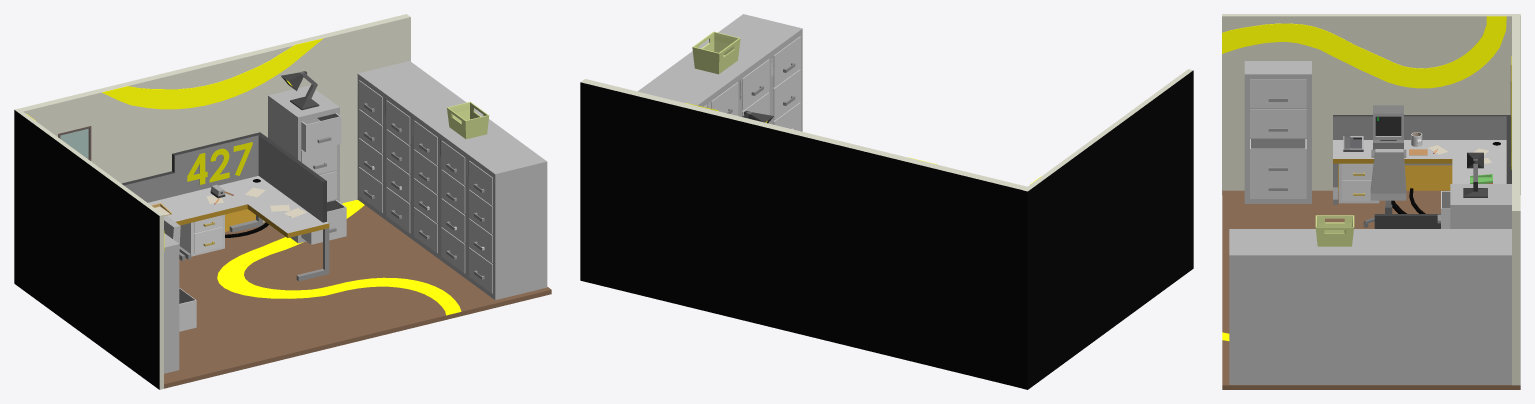
The model's file is stanley_office.glb.
The picture shows the model from 3 angles, left to right: view 1: azimuth 30°, elevation 25°; view 2: azimuth 150°, elevation 25°; view 3: azimuth 270°, elevation 25°; orthographic projection. The views are drawn at different scales.
Visible parts, largest first — view 1: Floor_0, Wall_Back_2, Wall_Side_4, Desk_54, Filing_Cabinet_007_32, Filing_Cabinet_002_28, Filing_Cabinet_007_38, Filing_Cabinet_007_40, Filing_Cabinet_007_34, Filing_Cabinet_007_36, Av_Line004_94, Filing_Cabinet_001_30 (+8 smaller); view 2: Wall_Side_4, Wall_Back_2, Filing_Cabinet_007_32, Filing_Cabinet_007_36, Filing_Cabinet_007_34, Basket_62, Filing_Cabinet_007_40; view 3: Wall_Back_2, Filing_Cabinet_001_30, Filing_Cabinet_007_32, Filing_Cabinet_007_38, Filing_Cabinet_007_40, Filing_Cabinet_007_36, Filing_Cabinet_007_34, Desk_54, Floor_0, Av_Line006_96, Wall_Side_4, Av_Line005_92 (+8 smaller).
Part boxes in pixels (x1=…): Floor_0: x1=164, y1=199, x2=551, y2=388; Wall_Back_2: x1=14, y1=109, x2=163, y2=389; Wall_Side_4: x1=17, y1=14, x2=410, y2=222; Desk_54: x1=121, y1=132, x2=329, y2=281; Filing_Cabinet_007_32: x1=467, y1=141, x2=547, y2=300; Filing_Cabinet_002_28: x1=268, y1=85, x2=346, y2=244; Filing_Cabinet_007_38: x1=357, y1=61, x2=436, y2=219; Filing_Cabinet_007_40: x1=385, y1=81, x2=463, y2=239; Filing_Cabinet_007_34: x1=440, y1=121, x2=519, y2=279; Filing_Cabinet_007_36: x1=412, y1=101, x2=491, y2=259; Av_Line004_94: x1=102, y1=38, x2=323, y2=109; Filing_Cabinet_001_30: x1=164, y1=233, x2=196, y2=373; Wall_Side_4: x1=580, y1=79, x2=1028, y2=388; Wall_Back_2: x1=1022, y1=69, x2=1193, y2=389; Filing_Cabinet_007_32: x1=718, y1=14, x2=802, y2=131; Filing_Cabinet_007_36: x1=649, y1=60, x2=739, y2=116; Filing_Cabinet_007_34: x1=681, y1=39, x2=770, y2=123; Basket_62: x1=692, y1=31, x2=740, y2=74; Filing_Cabinet_007_40: x1=637, y1=83, x2=708, y2=107; Wall_Back_2: x1=1222, y1=14, x2=1520, y2=194; Filing_Cabinet_001_30: x1=1244, y1=61, x2=1311, y2=203; Filing_Cabinet_007_32: x1=1229, y1=229, x2=1286, y2=384; Filing_Cabinet_007_38: x1=1455, y1=229, x2=1511, y2=384; Filing_Cabinet_007_40: x1=1399, y1=229, x2=1455, y2=384; Filing_Cabinet_007_36: x1=1342, y1=229, x2=1399, y2=384; Filing_Cabinet_007_34: x1=1285, y1=229, x2=1342, y2=384; Desk_54: x1=1333, y1=115, x2=1511, y2=228; Floor_0: x1=1222, y1=190, x2=1511, y2=389; Av_Line006_96: x1=1222, y1=23, x2=1387, y2=77; Wall_Side_4: x1=1512, y1=15, x2=1520, y2=389; Av_Line005_92: x1=1378, y1=16, x2=1506, y2=88.
Size of the model in its own units: 4.73 by 2.01 by 3.04.
